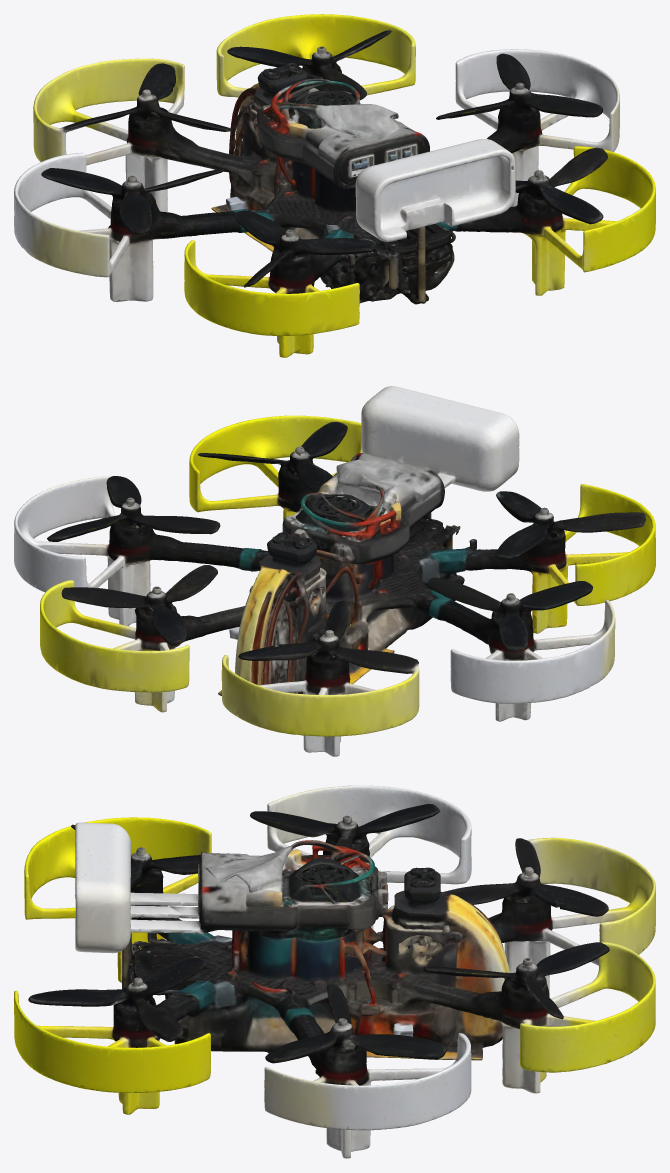
File: drone.glb
3 renders of one model, top to bottom at view 1: azimuth 30°, elevation 25°; view 2: azimuth 150°, elevation 25°; view 3: azimuth 270°, elevation 25°, orthographic. The views are drawn at different scales.
Parts seen in each view (by area): view 1: geometry_0; view 2: geometry_0; view 3: geometry_0.
Part boxes in pixels (x1,y1,x2,y2): geometry_0: (14,14,655,357); geometry_0: (14,386,655,756); geometry_0: (14,785,655,1158).
Size of the model in its own units: 1 by 0.3002 by 0.8953.
Materials: 1 (1 with a texture image).
